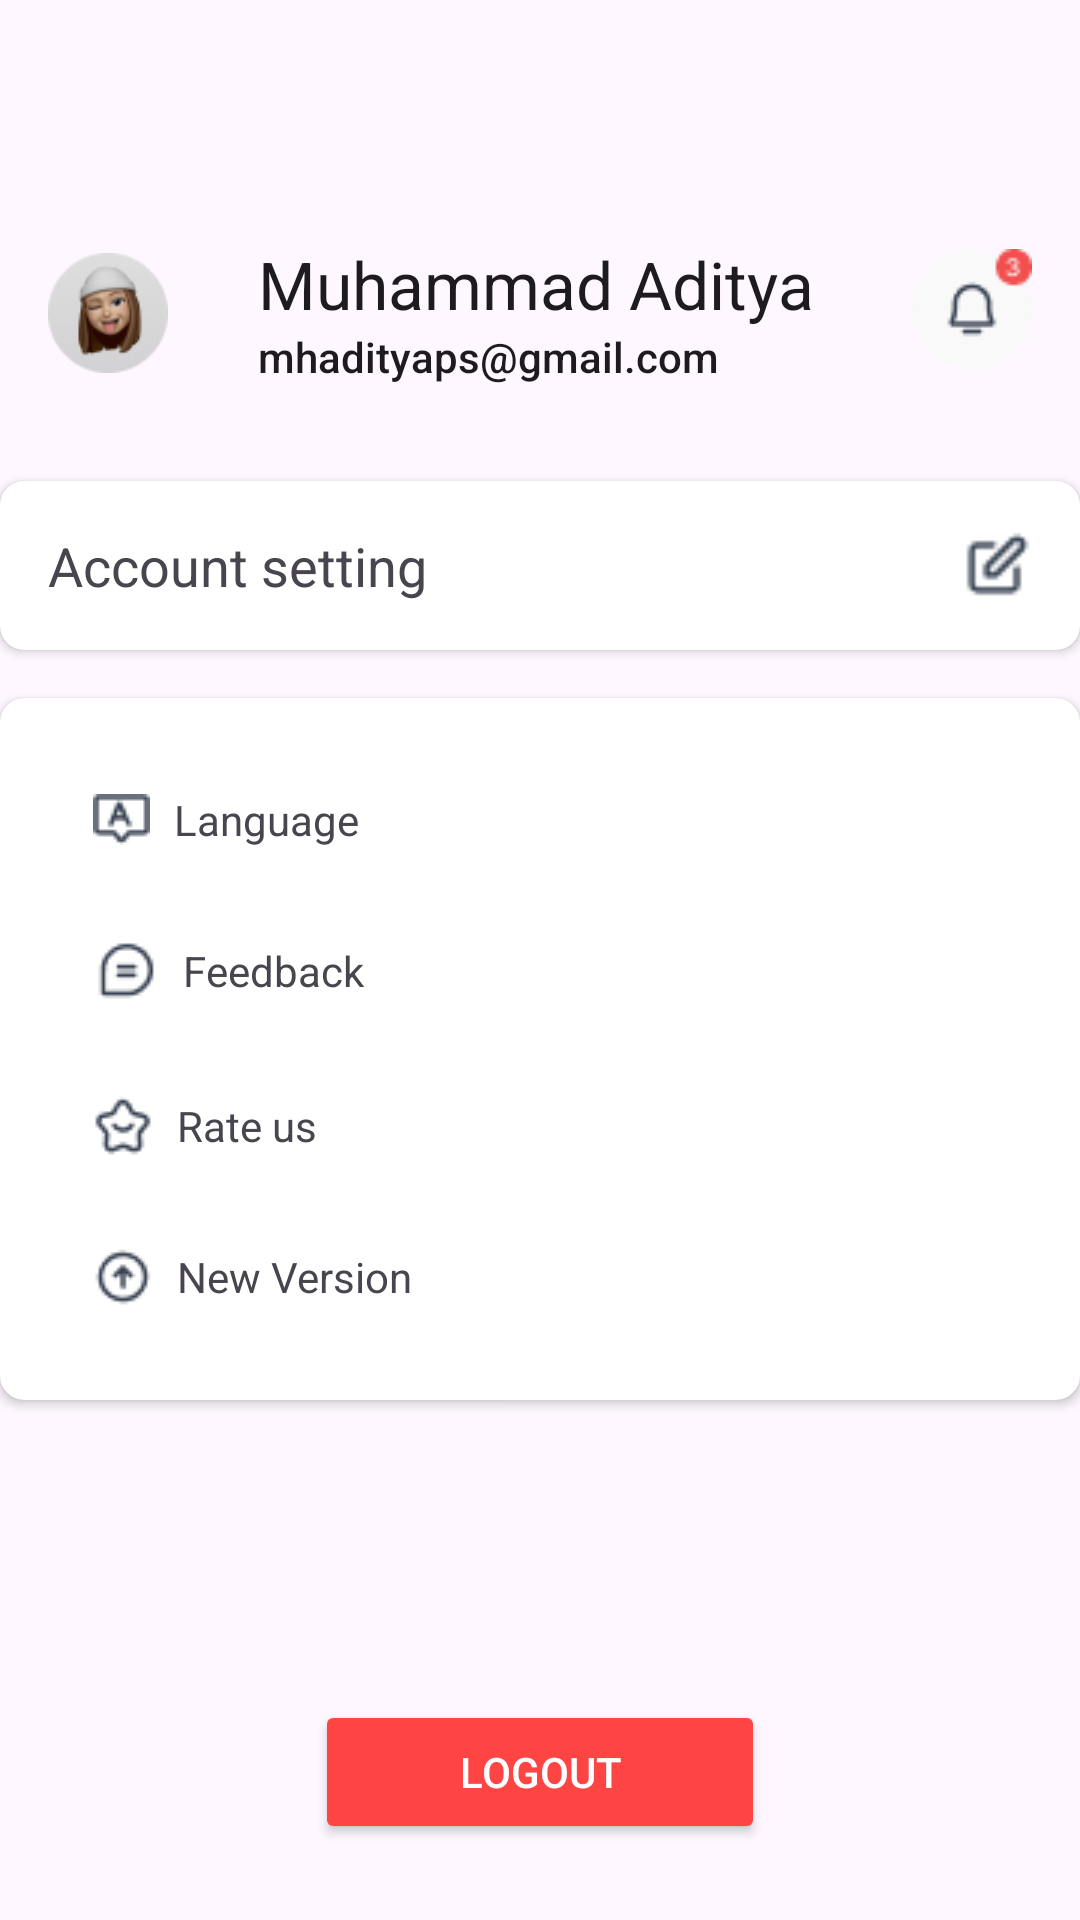

Named icons in this screenshot (1080x1920) and their centers, (x,y):
notifications: (989,292)
profile: (108,313)
